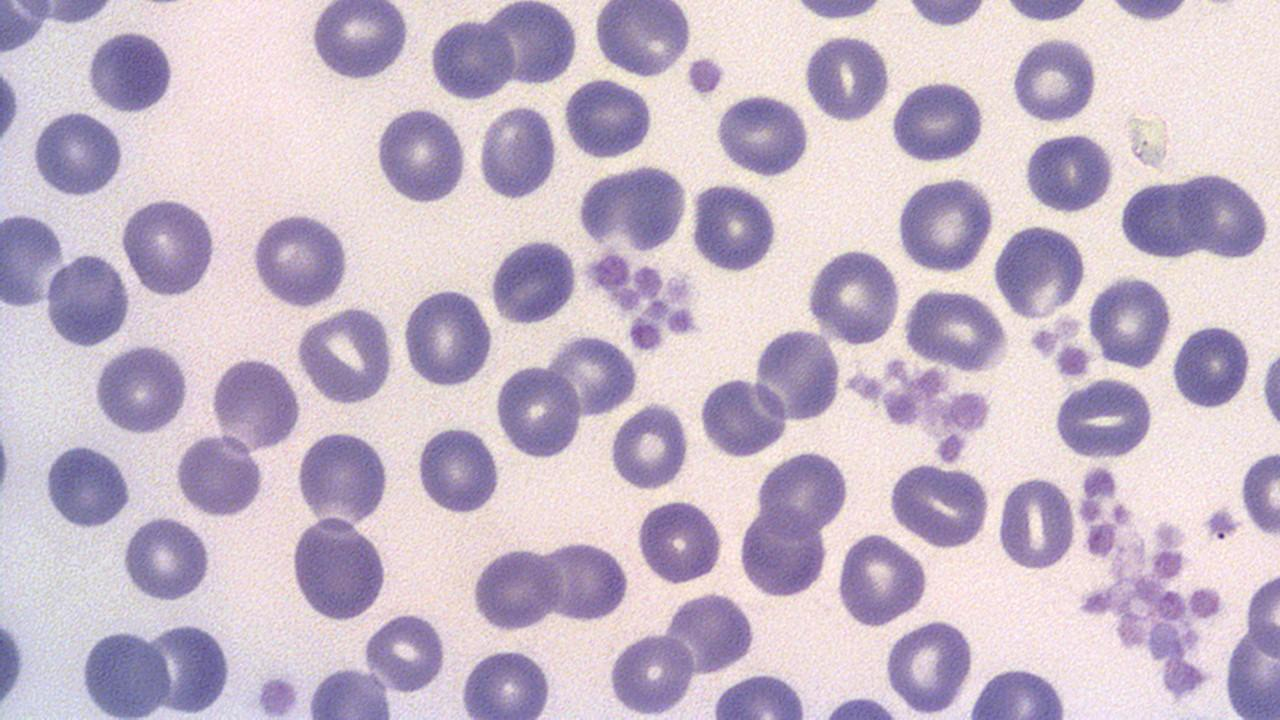Platelets: (1053, 376, 1155, 458), (685, 54, 727, 97), (1203, 502, 1241, 542), (1053, 340, 1091, 380), (1080, 464, 1118, 502), (626, 316, 662, 352), (1076, 585, 1114, 617), (1031, 324, 1061, 361), (666, 306, 698, 338)
RBC: (287, 514, 392, 623), (247, 206, 351, 310), (117, 194, 218, 299), (294, 304, 397, 406), (894, 173, 995, 275), (804, 244, 903, 347), (293, 428, 392, 530), (373, 103, 468, 207), (990, 221, 1088, 321), (90, 340, 190, 437), (401, 286, 494, 390), (886, 461, 993, 551), (208, 354, 304, 453), (882, 616, 978, 714), (77, 622, 174, 717), (688, 178, 782, 275), (904, 286, 1008, 373), (734, 506, 828, 602), (752, 326, 844, 424), (1174, 168, 1272, 260), (834, 530, 926, 628), (494, 361, 584, 461), (1052, 374, 1156, 460), (712, 91, 814, 178), (41, 252, 131, 350), (30, 109, 126, 200), (144, 618, 233, 716), (888, 78, 987, 166), (83, 24, 178, 115), (800, 31, 892, 124), (485, 238, 580, 328), (1008, 33, 1100, 125), (120, 512, 212, 604), (754, 447, 850, 535), (306, 2, 411, 81), (486, 0, 578, 90), (635, 494, 724, 587), (40, 442, 134, 530), (468, 544, 562, 632), (996, 471, 1076, 574), (1087, 272, 1171, 370), (173, 431, 267, 518), (1020, 129, 1114, 216), (695, 372, 790, 458), (477, 102, 558, 202), (427, 14, 516, 105), (414, 423, 501, 516), (562, 75, 656, 160), (605, 627, 695, 715), (591, 1, 695, 77), (540, 535, 628, 623), (608, 398, 690, 492), (363, 608, 449, 696), (548, 334, 638, 418), (456, 645, 555, 718), (1119, 176, 1205, 260), (1169, 322, 1249, 411), (3, 209, 72, 312), (961, 662, 1077, 717), (1221, 620, 1279, 716), (305, 662, 394, 720), (704, 672, 816, 718), (1239, 446, 1279, 539), (1244, 566, 1280, 662), (0, 598, 28, 714), (1256, 329, 1280, 449), (900, 0, 992, 29), (998, 0, 1096, 25), (787, 0, 888, 24), (0, 50, 21, 160), (1106, 0, 1190, 24)
WBC: (0, 0, 894, 720), (685, 0, 1273, 372), (288, 514, 395, 622), (990, 222, 1089, 322), (885, 458, 994, 547), (557, 76, 667, 160), (485, 234, 581, 329), (802, 30, 897, 125), (40, 438, 136, 528), (84, 27, 180, 116), (592, 0, 696, 79), (1119, 176, 1201, 263), (898, 1, 994, 32)
